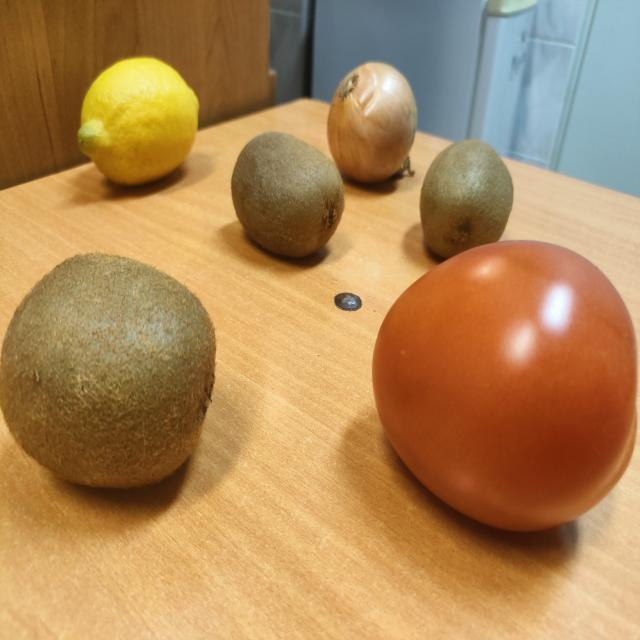kiwi: (0, 253, 216, 487), (231, 132, 344, 257), (420, 138, 514, 258)
lemon: (78, 57, 199, 185), (328, 62, 418, 183)
tomato: (372, 242, 636, 530)
